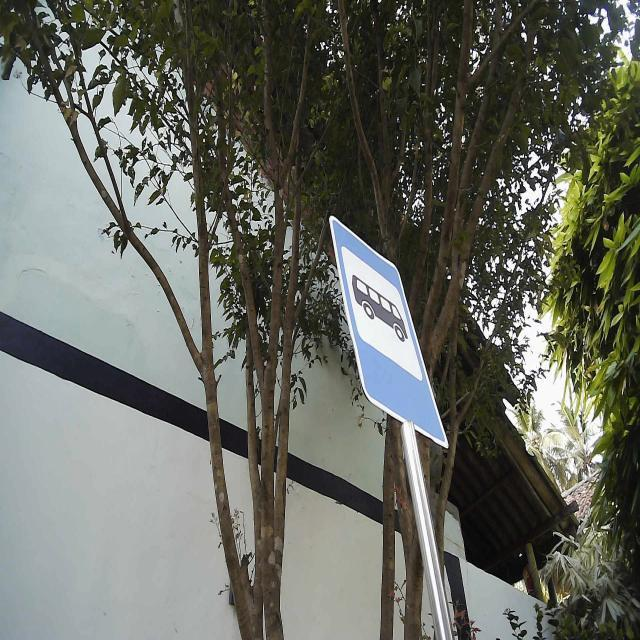bus_stop: (329, 214, 451, 452)
